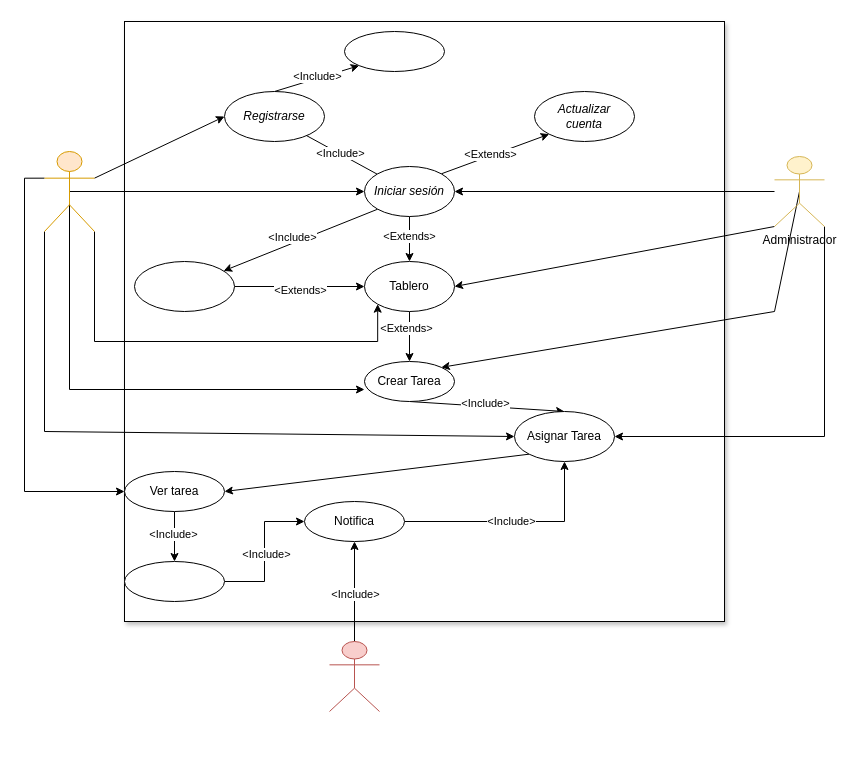
Some shapes in this 854 by 765 pixel diagram are drawn without their labels. Each missing label, with the centre of its shape:
Pagina Principal: the point at 184,286
Realizar Tarea: the point at 174,581
Roles: the point at 394,51
Sistema: the point at 354,676
Usuario: the point at 69,191
